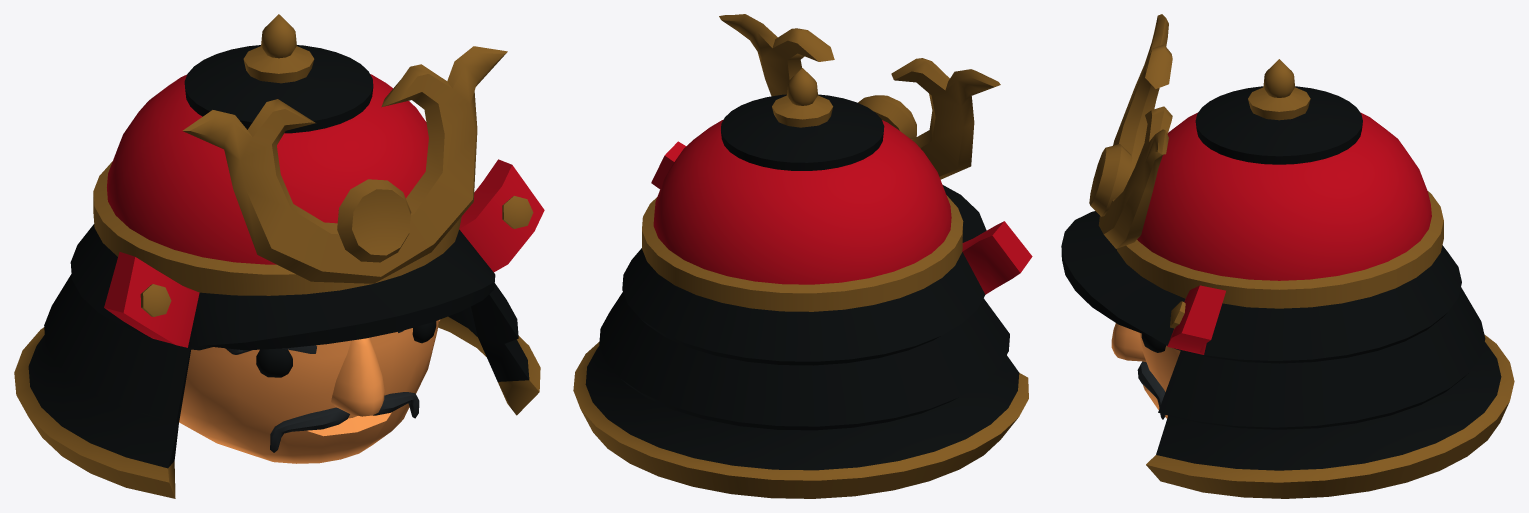
File: character_samurai_head_red.obj
3 renders of one model, left to right at view 1: azimuth 30°, elevation 25°; view 2: azimuth 150°, elevation 25°; view 3: azimuth 270°, elevation 25°, orthographic. The views are drawn at different scales.
Visible parts, largest first — view 1: character_samurai_head_red_Cube.245; view 2: character_samurai_head_red_Cube.245; view 3: character_samurai_head_red_Cube.245.
Boxes of the visible parts, left/top/right/bottom form: character_samurai_head_red_Cube.245: left=14, top=14, right=544, bottom=498; character_samurai_head_red_Cube.245: left=573, top=14, right=1032, bottom=498; character_samurai_head_red_Cube.245: left=1061, top=14, right=1514, bottom=498.
Size of the model in its own units: 1.61 by 1.37 by 1.56.
